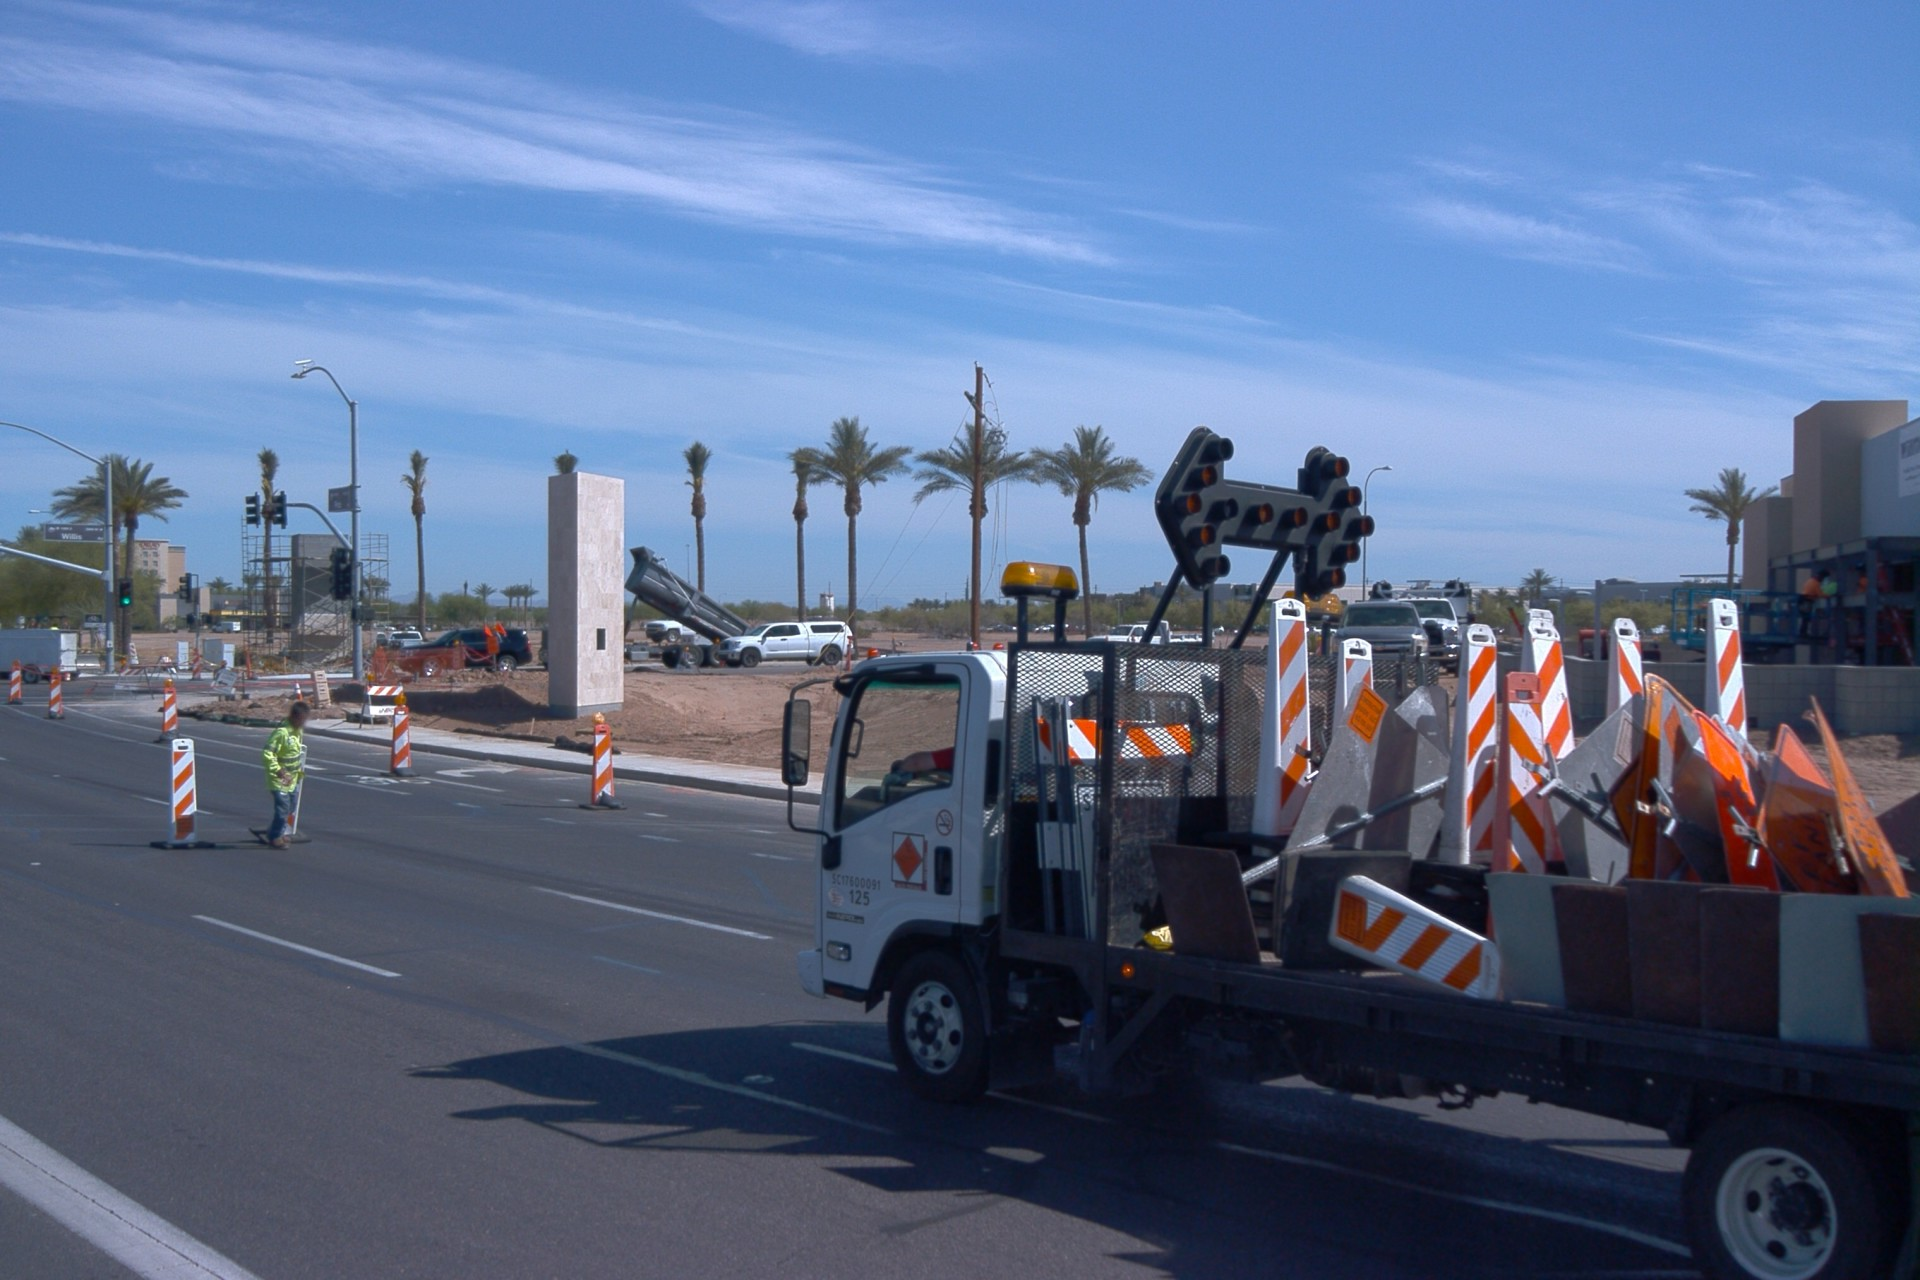TYPE_PEDESTRIAN: (260, 700, 310, 851), (50, 618, 63, 633)
TYPE_VEHICLE: (778, 430, 1920, 1280), (534, 544, 752, 674), (1367, 574, 1475, 679), (1324, 596, 1434, 685), (389, 619, 541, 678), (716, 616, 854, 665), (1081, 620, 1218, 661), (19, 613, 98, 677), (2, 624, 81, 683), (644, 619, 702, 651), (382, 631, 427, 650), (214, 621, 240, 634), (1309, 627, 1337, 639)
